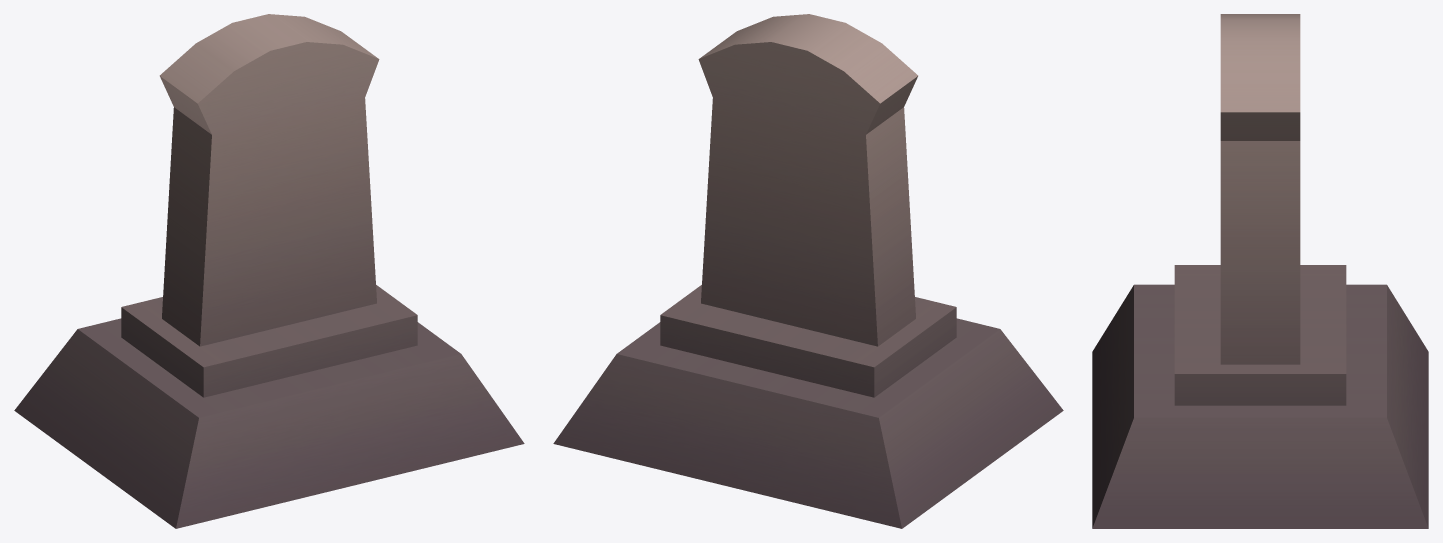
Rendered from tombstone5.glb.
3 views of the same model, side by side, from view 1: azimuth 30°, elevation 25°; view 2: azimuth 150°, elevation 25°; view 3: azimuth 270°, elevation 25° (orthographic). The views are drawn at different scales.
Parts seen in each view (by area): view 1: tombstone5; view 2: tombstone5; view 3: tombstone5.
Part boxes in pixels (<box>): tombstone5: <box>14,14,524,528</box>; tombstone5: <box>553,14,1063,528</box>; tombstone5: <box>1092,14,1428,528</box>.
Size of the model in its own units: 0.885 by 0.9572 by 0.7103.
Materials: 1 (1 with a texture image).
